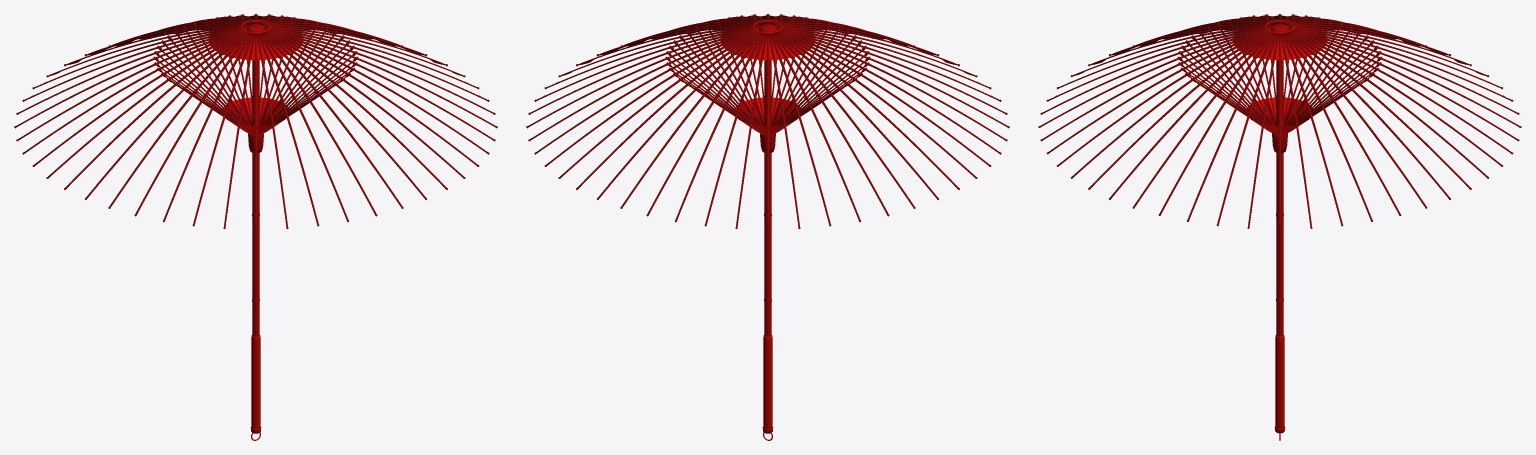
Rendered from wagasa.glb.
3 renders of one model, left to right at view 1: azimuth 30°, elevation 25°; view 2: azimuth 150°, elevation 25°; view 3: azimuth 270°, elevation 25°, orthographic.
Visible parts, largest first — view 1: wagasa_frame, wagasa_thread, wagasa_paper; view 2: wagasa_frame, wagasa_thread, wagasa_paper; view 3: wagasa_frame, wagasa_thread, wagasa_paper.
Part boxes in pixels (<box>): wagasa_frame: <box>14,14,497,433</box>; wagasa_thread: <box>209,20,302,440</box>; wagasa_paper: <box>31,15,480,96</box>; wagasa_frame: <box>526,14,1009,433</box>; wagasa_thread: <box>721,20,814,440</box>; wagasa_paper: <box>543,15,992,96</box>; wagasa_frame: <box>1038,14,1521,433</box>; wagasa_thread: <box>1233,20,1326,440</box>; wagasa_paper: <box>1055,15,1504,96</box>.
Size of the model in its own units: 1.13 by 1.07 by 1.13.
